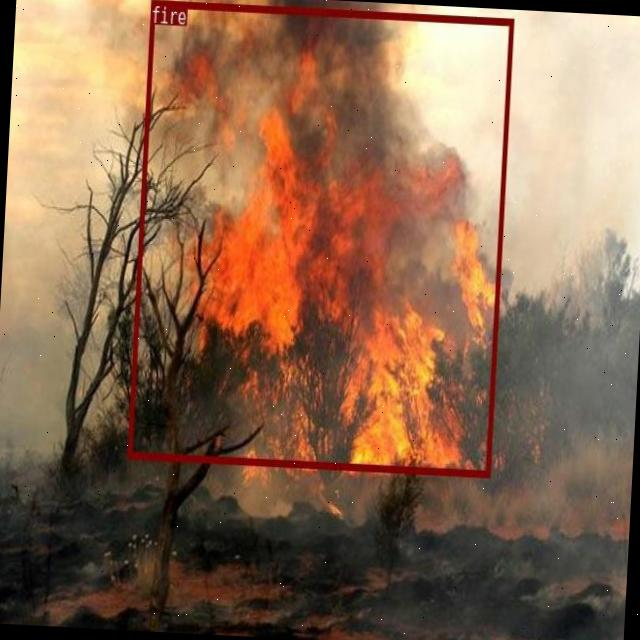fire: (127, 0, 513, 476)
